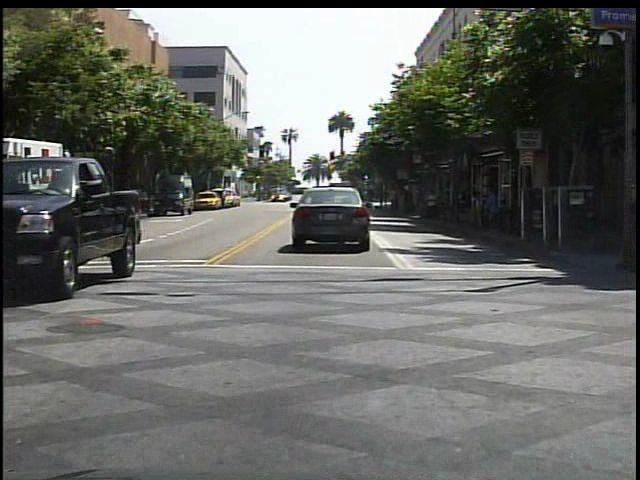person: (423, 185, 443, 222)
